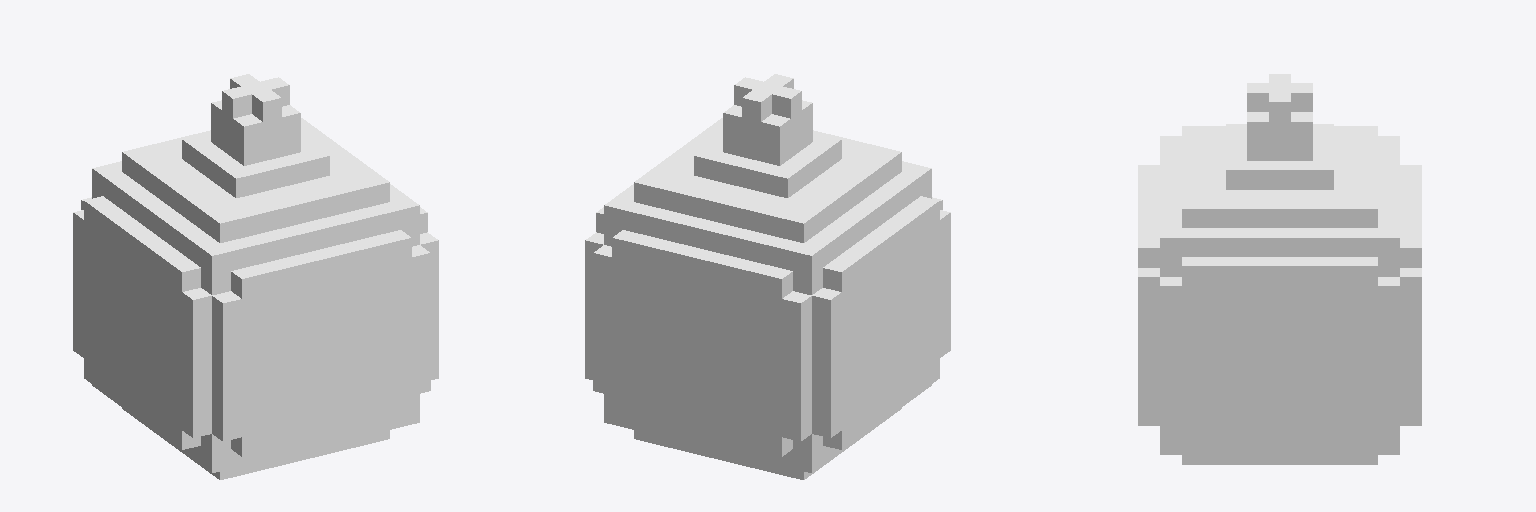
Rendered from bomb.vox.obj.
3 renders of one model, left to right at view 1: azimuth 30°, elevation 25°; view 2: azimuth 150°, elevation 25°; view 3: azimuth 270°, elevation 25°, orthographic.
Visible parts, largest first — view 1: object 1; view 2: object 1; view 3: object 1.
Boxes of the visible parts, x1,y1,x2,y2 form: object 1: [73, 74, 438, 479]; object 1: [585, 74, 950, 479]; object 1: [1138, 74, 1421, 464].
Size of the model in its own units: 1.3 by 1.7 by 1.3.